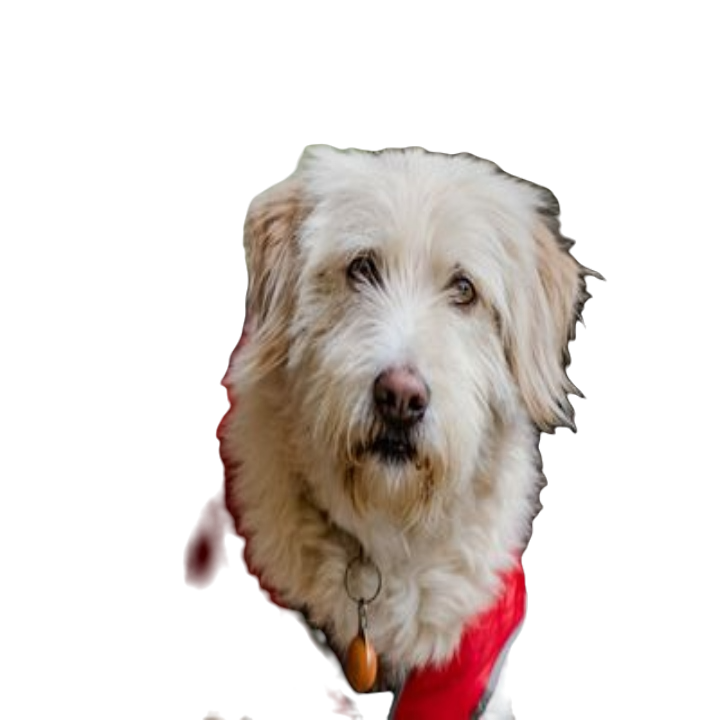Dog: (208, 143, 605, 719)
